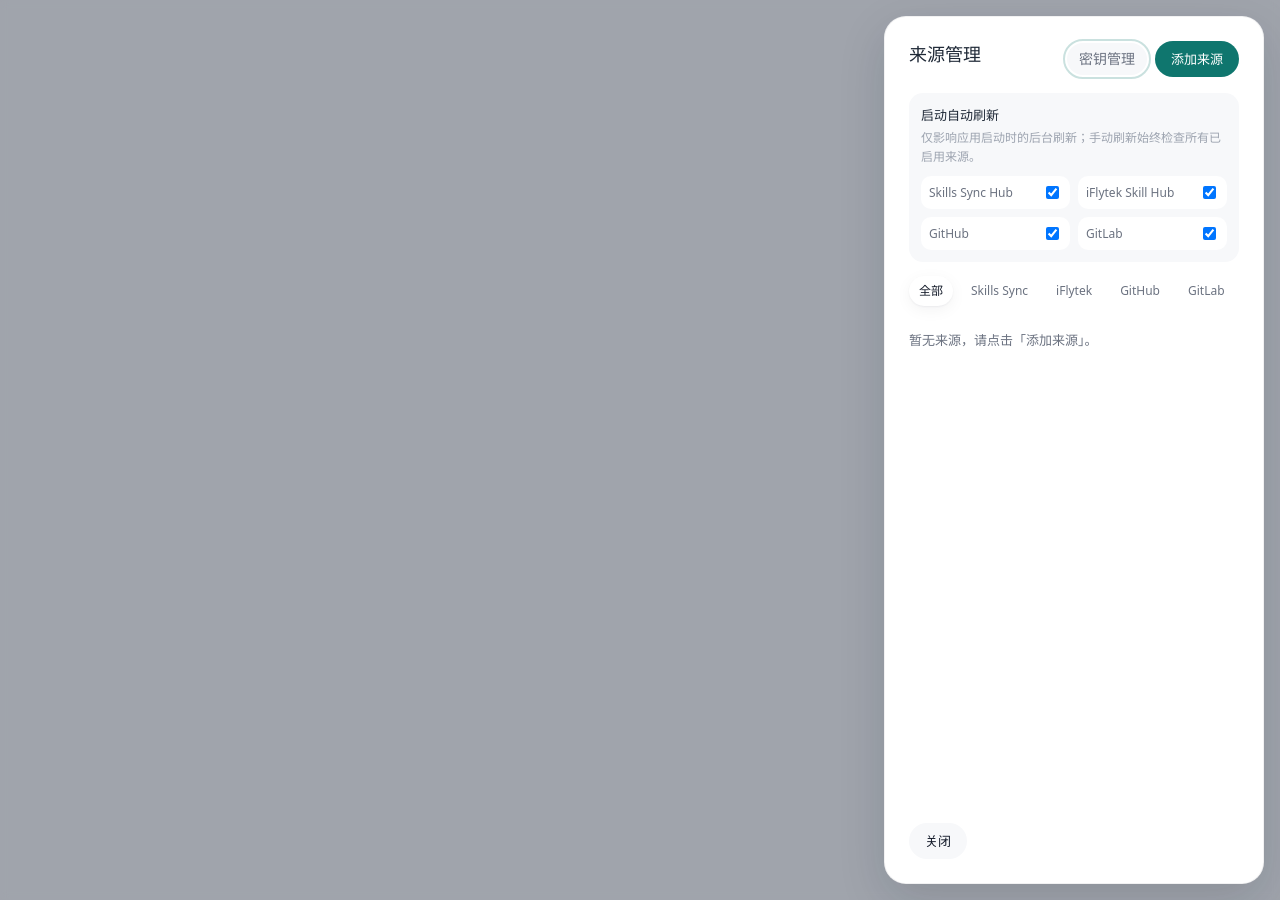
Scenario: SourceManageDrawer add flow › disables tab switching and dismissal while repository preview is pending
This screenshot has width=1280, height=900.
Click the button "添加来源" at point(1197, 59), box [1155,41,1239,77]
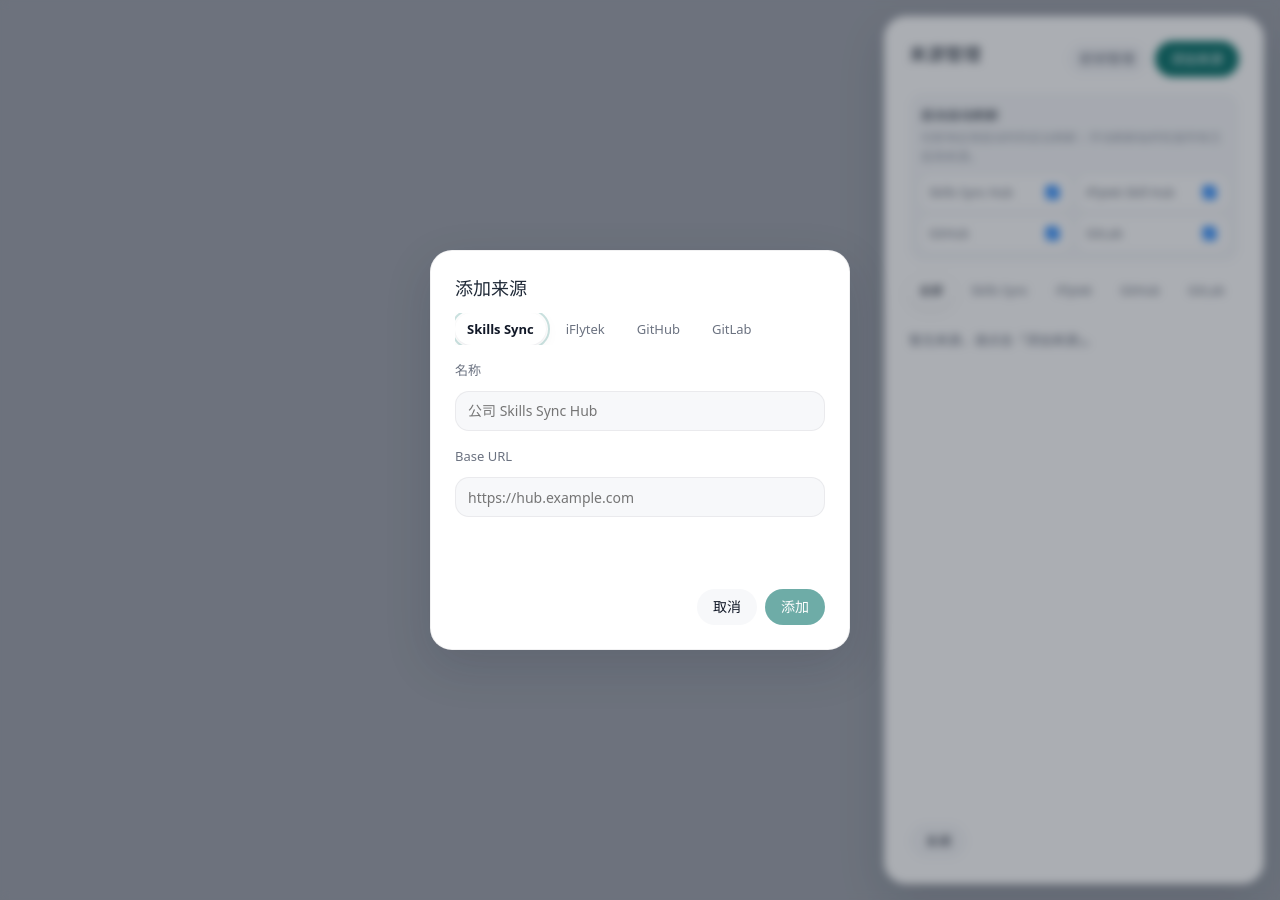
Click the tab "GitHub" at point(658, 329), box [625,313,692,345]
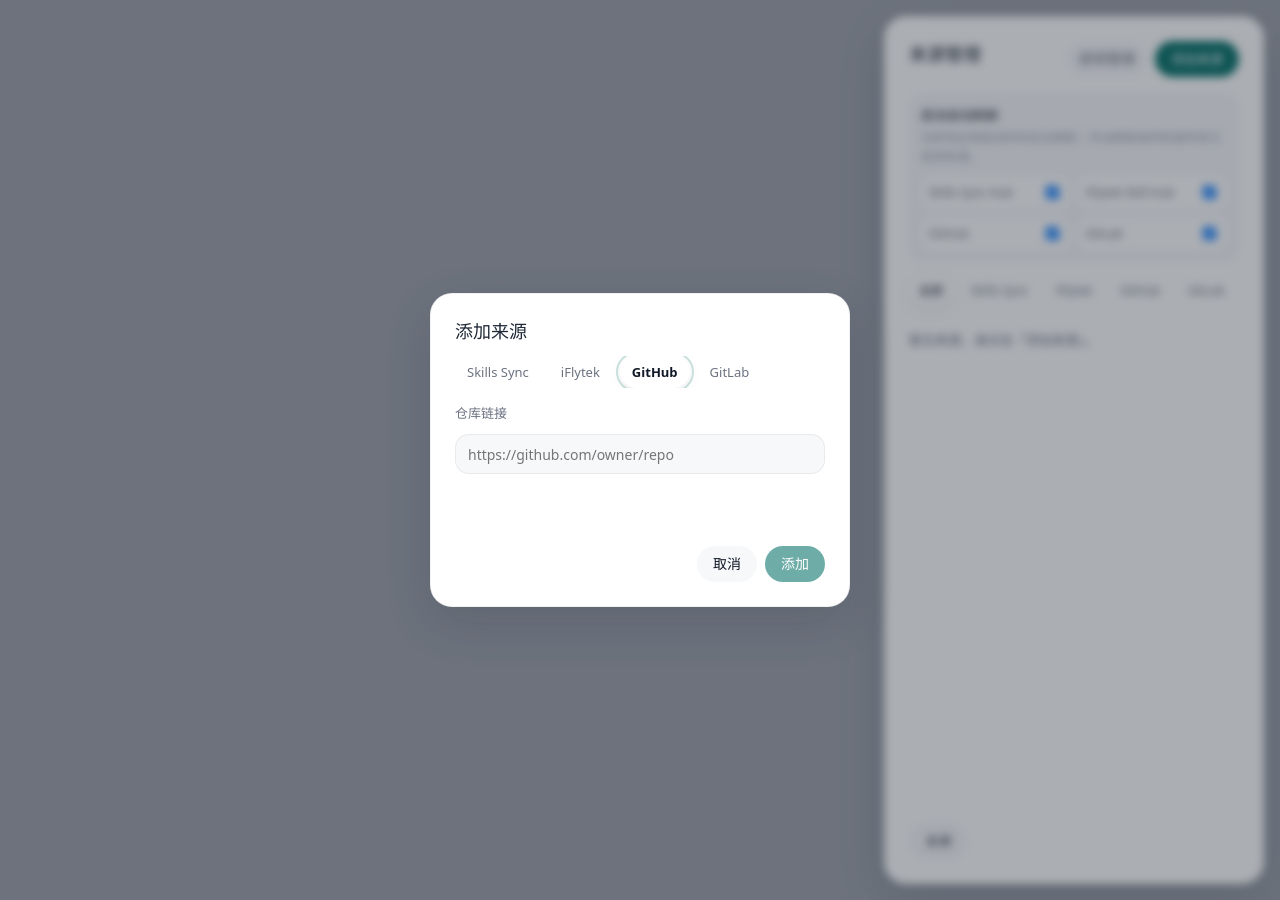
Type "https://github.com/acme/skills" into the field labelled "仓库链接" at point(640, 454), box [455,434,825,474]
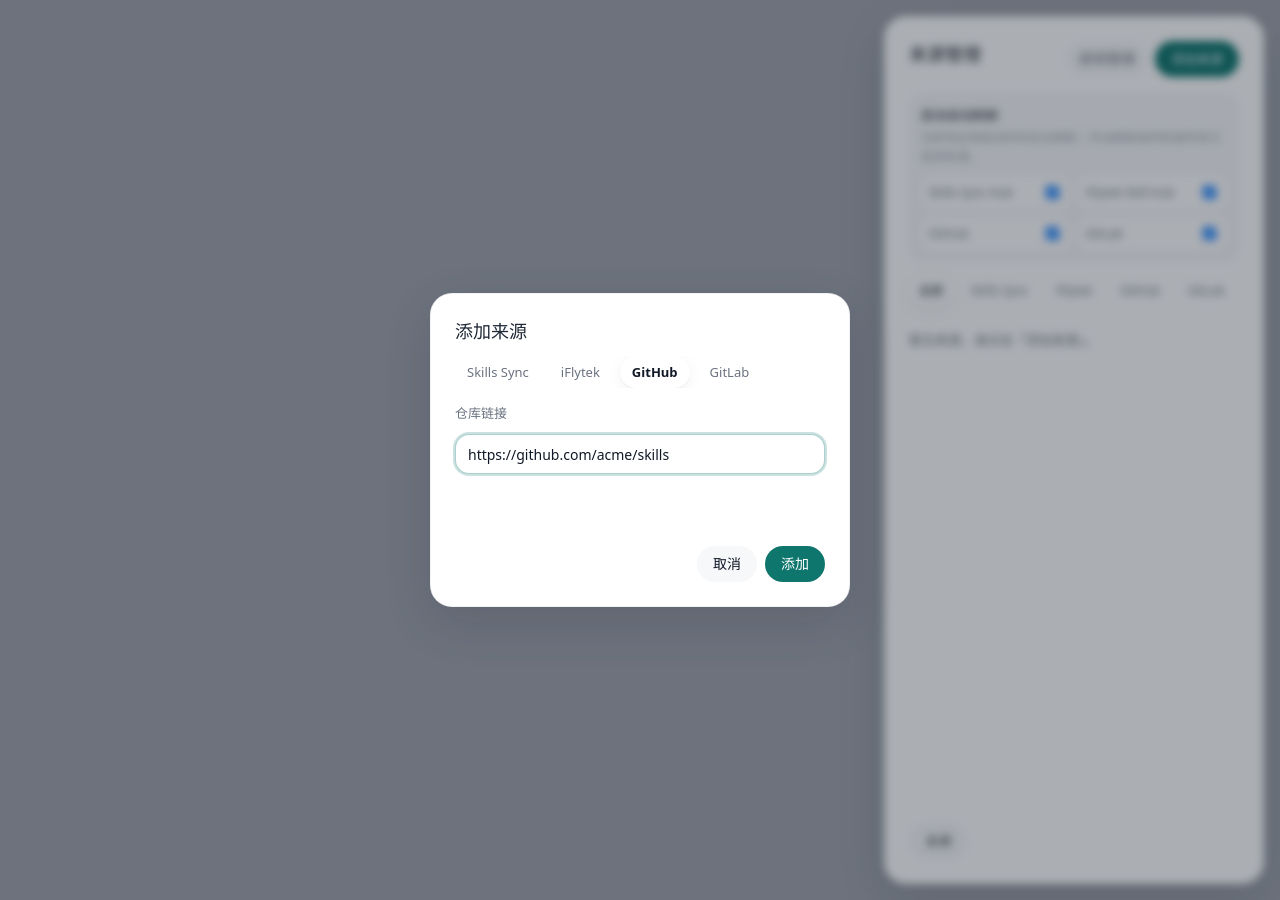
Click the button "添加" at point(795, 564), box [765,546,825,582]
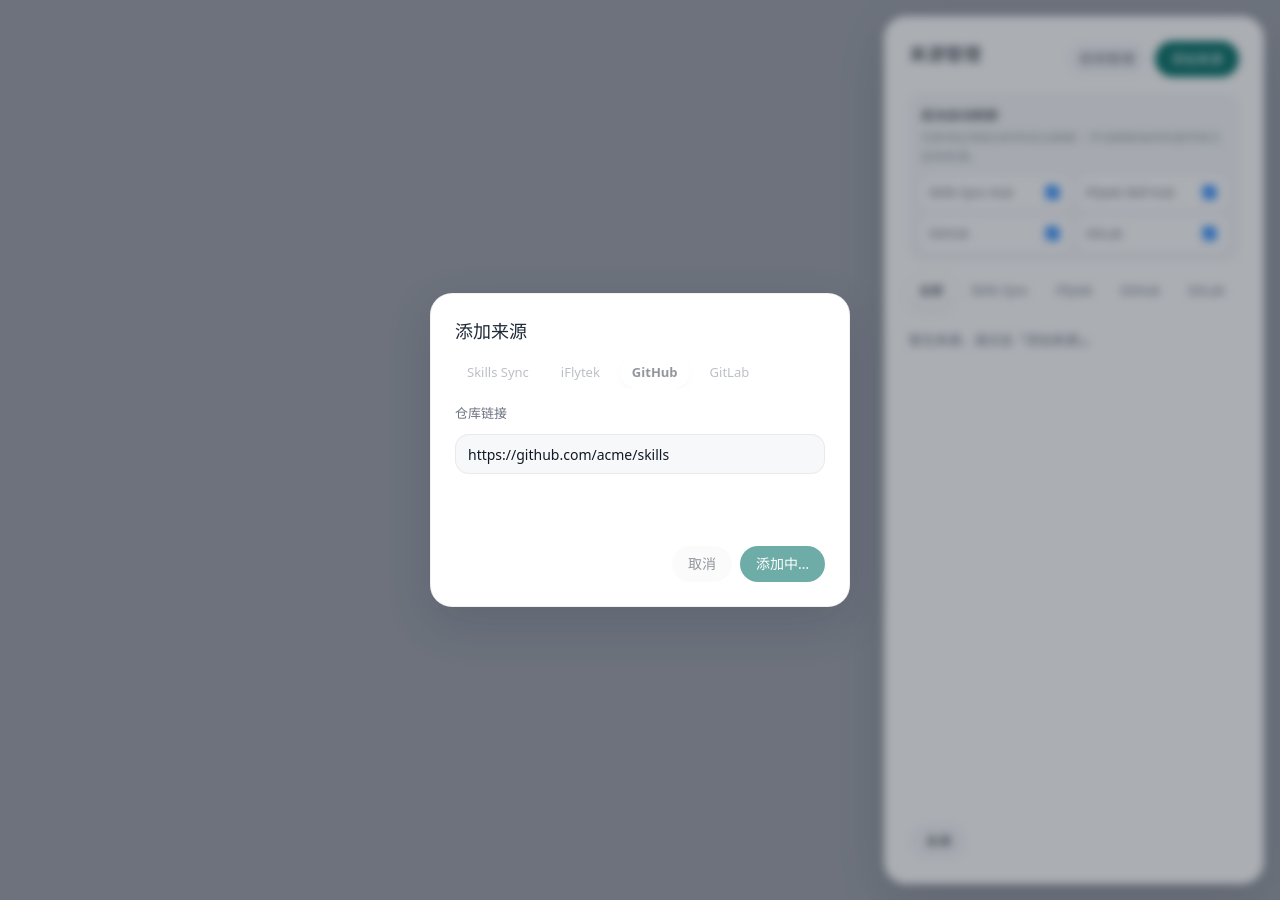
Check: the tab "Skills Sync" is disabled, box [455,356,541,388]
Check: the tab "iFlytek" is disabled, box [549,356,612,388]
Check: the tab "GitLab" is disabled, box [698,356,761,388]
Press Escape
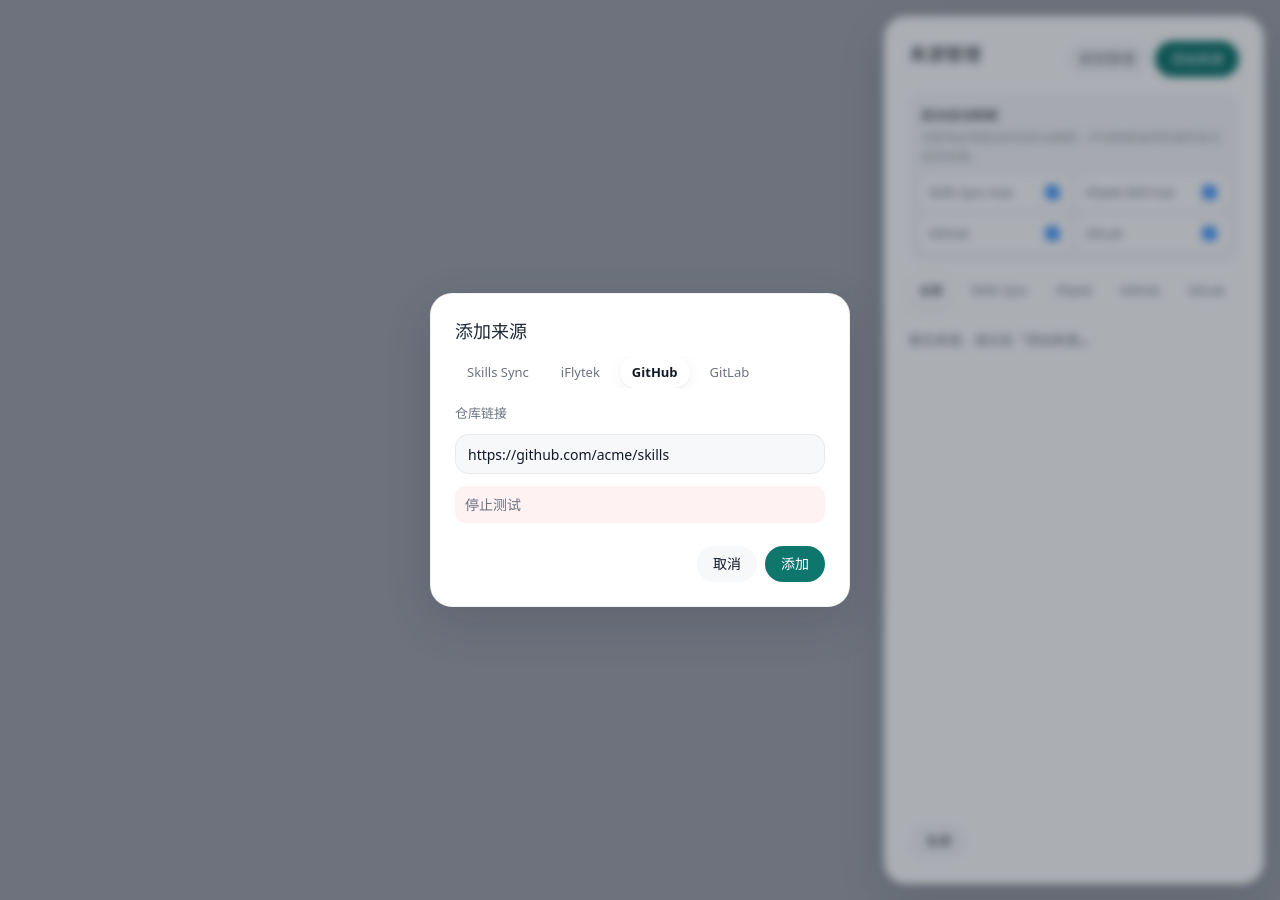
Check: the dialog "添加来源" is shown
Check: the message "停止测试" is shown, box [455,486,825,523]
